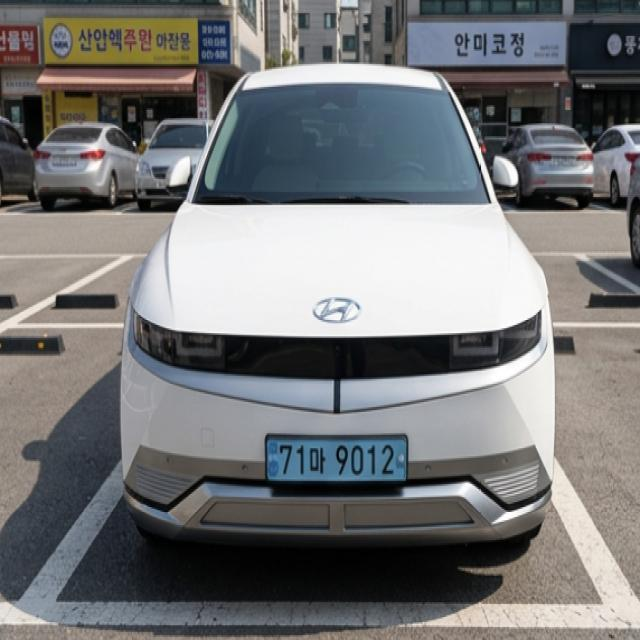car: (256, 424, 420, 501)
carev: (392, 439, 409, 485), (266, 434, 281, 485)
